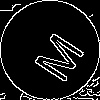M: (25, 25, 86, 85)
